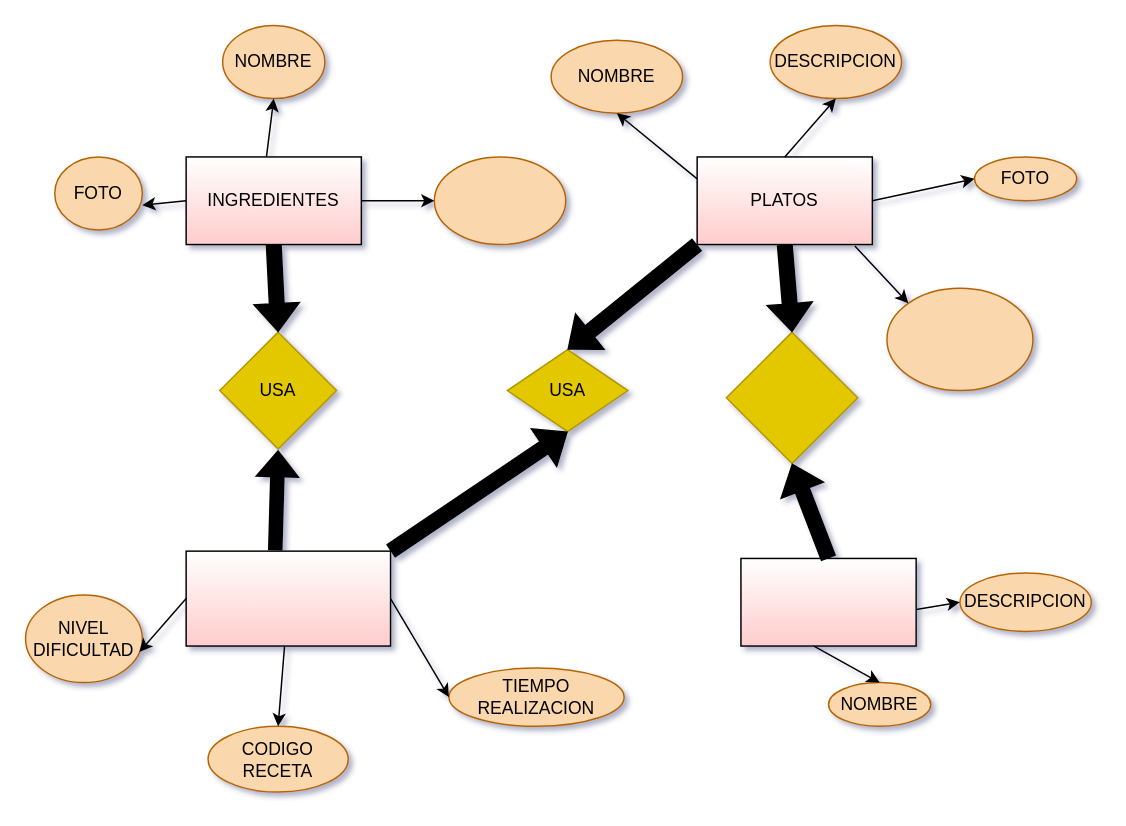
Image size: 1126x826. Some labels were removed from this diagram. Here are the shapes that lost their labels. From the top down, the box of each, then its label:
(433, 155, 566, 245): CANTIDAD SCTOK DISPONIBLE
(885, 287, 1033, 391): PRECIO FINAL PARA EL CLIENTE
(725, 331, 858, 464): PERTENECE
(185, 550, 391, 646): RECETAS
(739, 557, 916, 646): CATEGORIA
